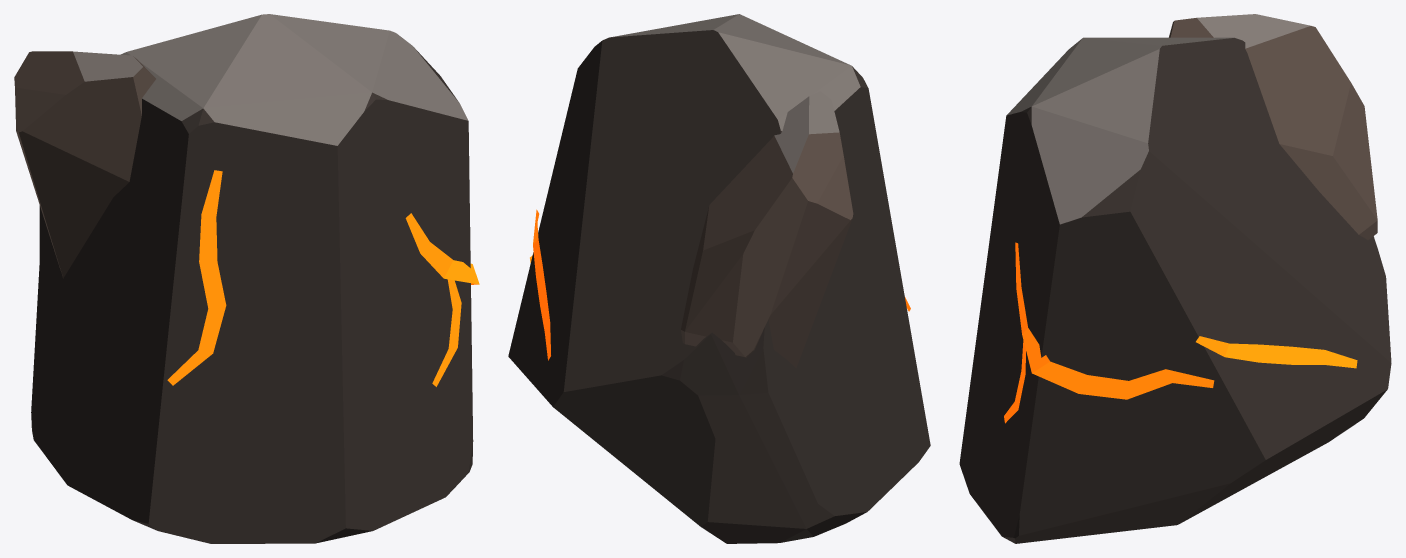
File: rock_post.glb
The picture shows the model from 3 angles, left to right: view 1: azimuth 30°, elevation 25°; view 2: azimuth 150°, elevation 25°; view 3: azimuth 270°, elevation 25°; orthographic projection. The views are drawn at different scales.
Parts seen in each view (by area): view 1: rock_post; view 2: rock_post; view 3: rock_post.
Boxes of the visible parts, left/top/right/bottom form: rock_post: left=14, top=14, right=479, bottom=543; rock_post: left=508, top=14, right=930, bottom=543; rock_post: left=959, top=14, right=1391, bottom=543.
Bounding box in the file's own units: 0.7778 × 0.9203 × 0.816.
